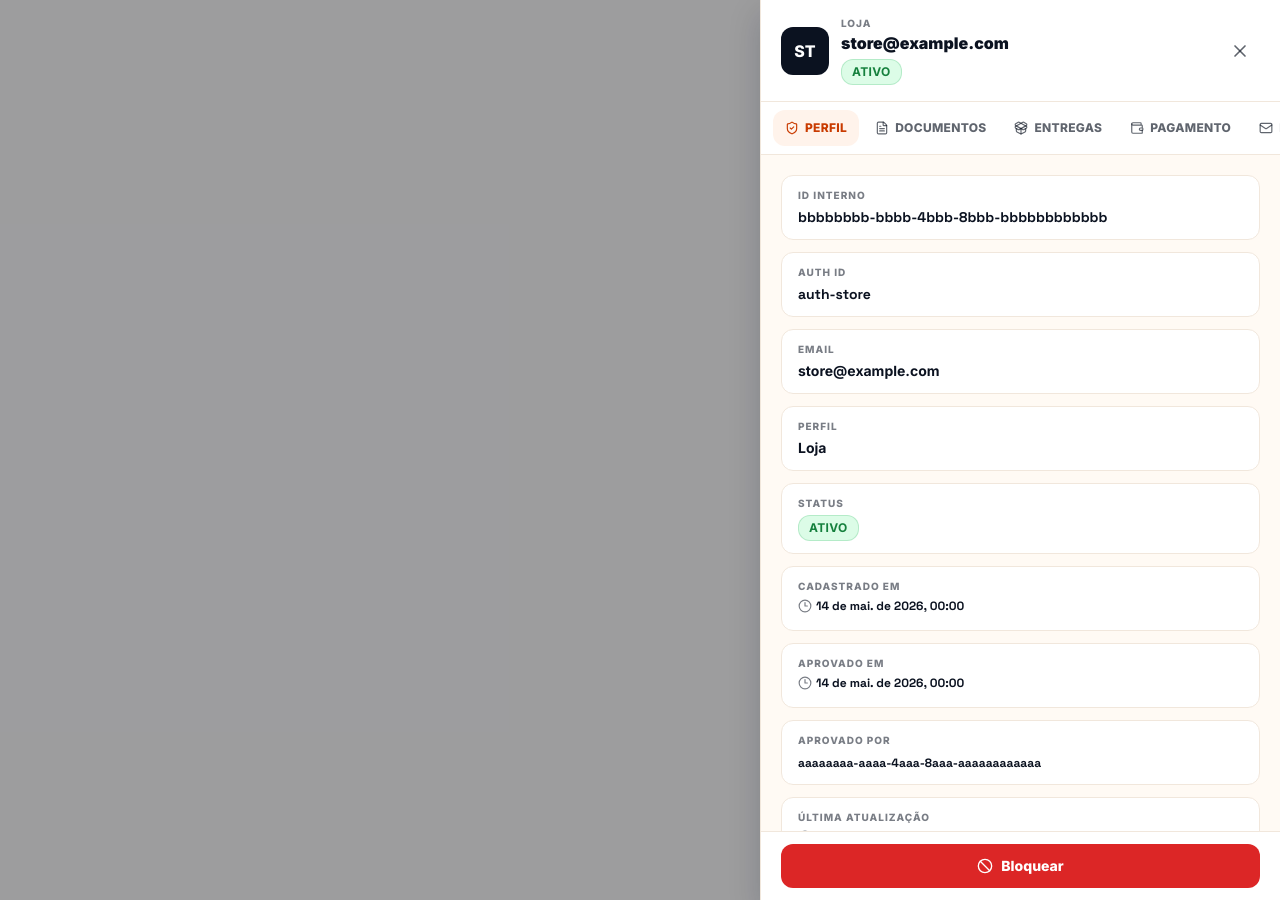
it: UserDetailDrawer deliveries tab › loads user deliveries lazily and keeps forbidden fields out of the deliveries section
Click the button "Entregas": coordinates (1058, 128) [1002,110,1114,146]
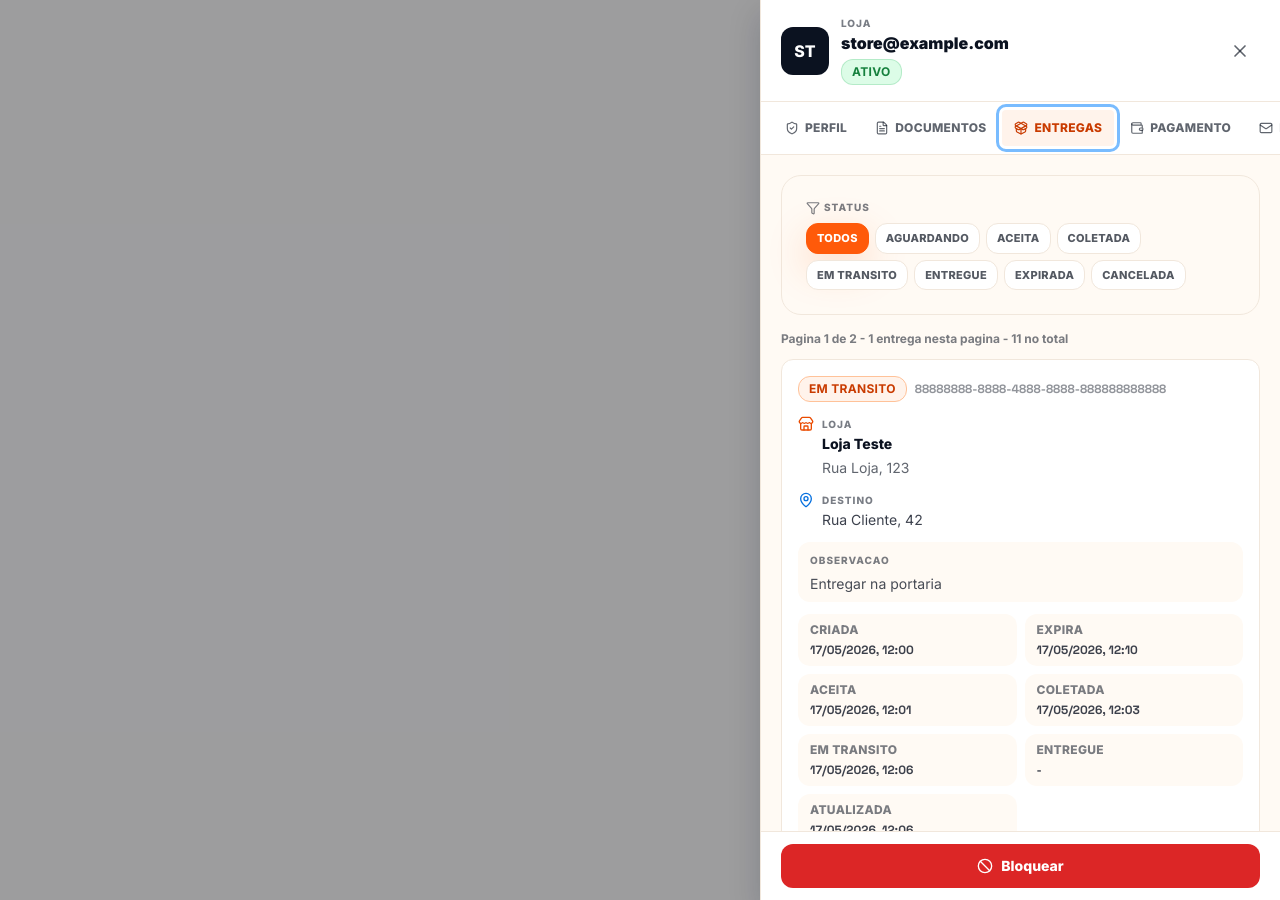
expect the text "Loja Teste" is shown: met, box [822,435,892,452]
expect the text "Rua Cliente, 42" is shown: met, box [822,511,923,528]
expect the text "Entregar na portaria" is shown: met, box [810,575,942,592]
